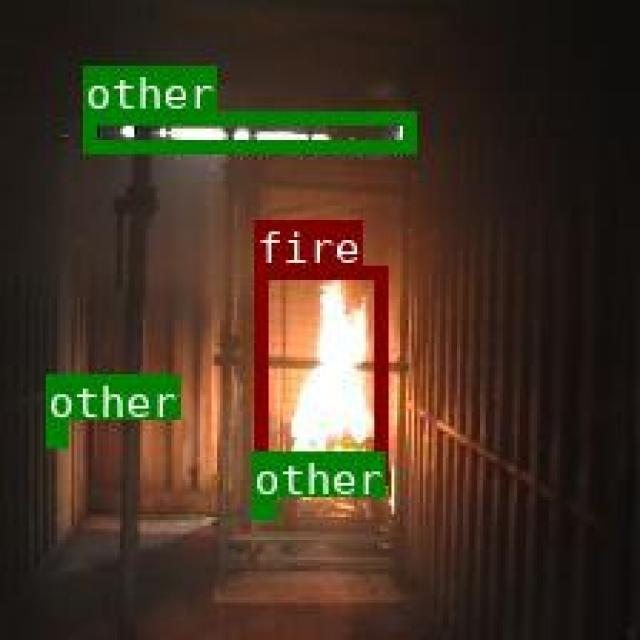fire: (253, 264, 386, 482)
